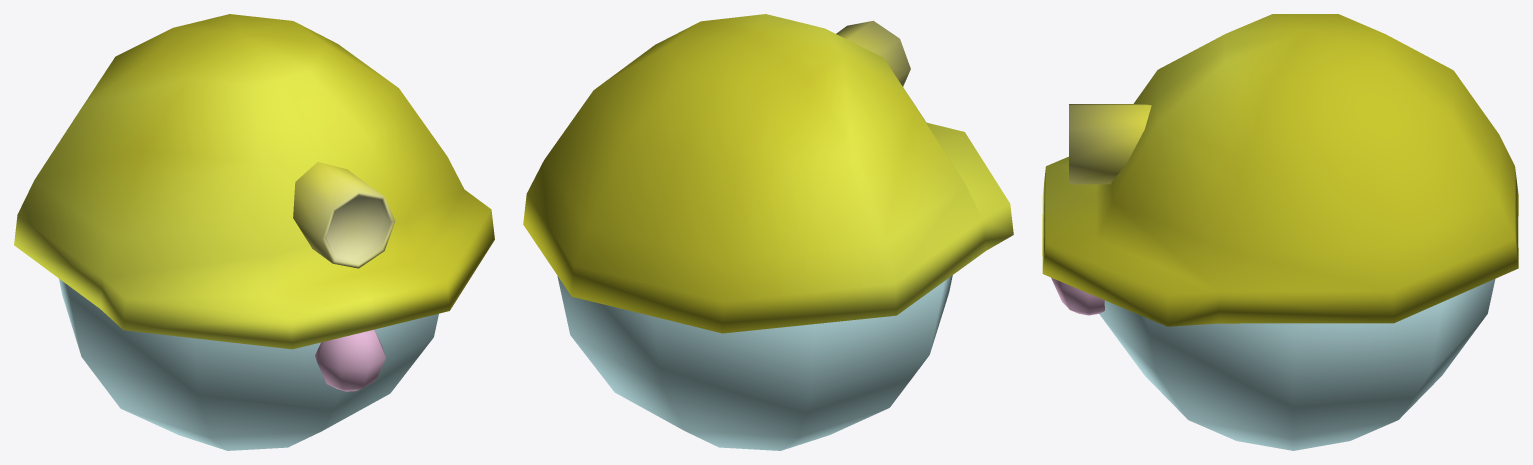
Rendered from dwarf_miner_1.fbx.
3 renders of one model, left to right at view 1: azimuth 30°, elevation 25°; view 2: azimuth 150°, elevation 25°; view 3: azimuth 270°, elevation 25°, orthographic. The views are drawn at different scales.
Parts seen in each view (by area): view 1: Dwarf_Miner_1; view 2: Dwarf_Miner_1; view 3: Dwarf_Miner_1.
Boxes of the visible parts, x1=… form: Dwarf_Miner_1: x1=14, y1=14, x2=494, y2=450; Dwarf_Miner_1: x1=523, y1=14, x2=1013, y2=450; Dwarf_Miner_1: x1=1042, y1=14, x2=1518, y2=450.
Size of the model in its own units: 0.5276 by 0.5367 by 0.5798.
